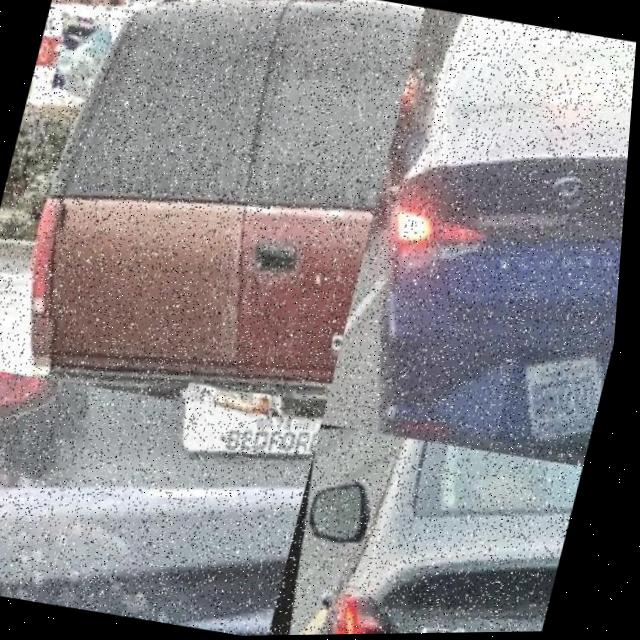LicensePlate: (177, 396, 326, 461), (519, 358, 599, 447), (194, 383, 265, 419)
